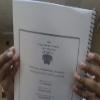notebook: (11, 0, 97, 99)
